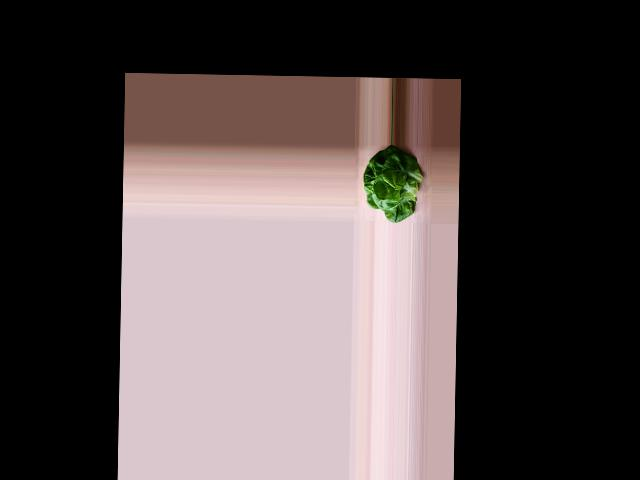lettuce: (362, 146, 421, 221)
